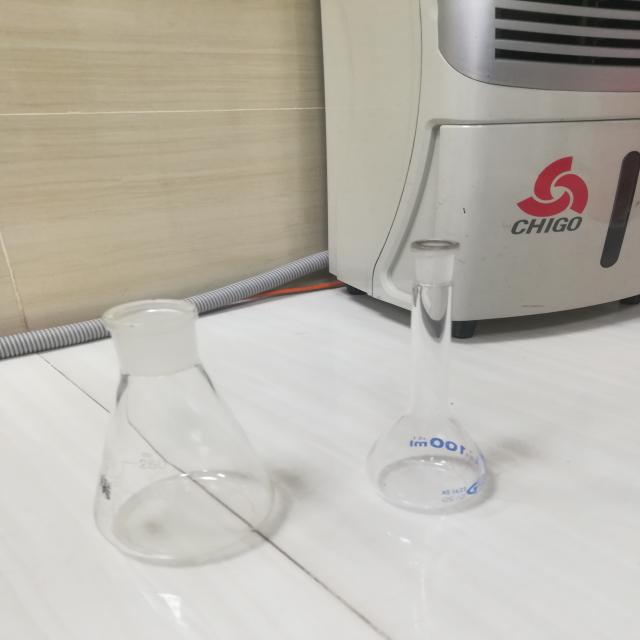Conical_Flask: (56, 265, 313, 581)
Volumetric_Flask: (353, 221, 537, 527)
